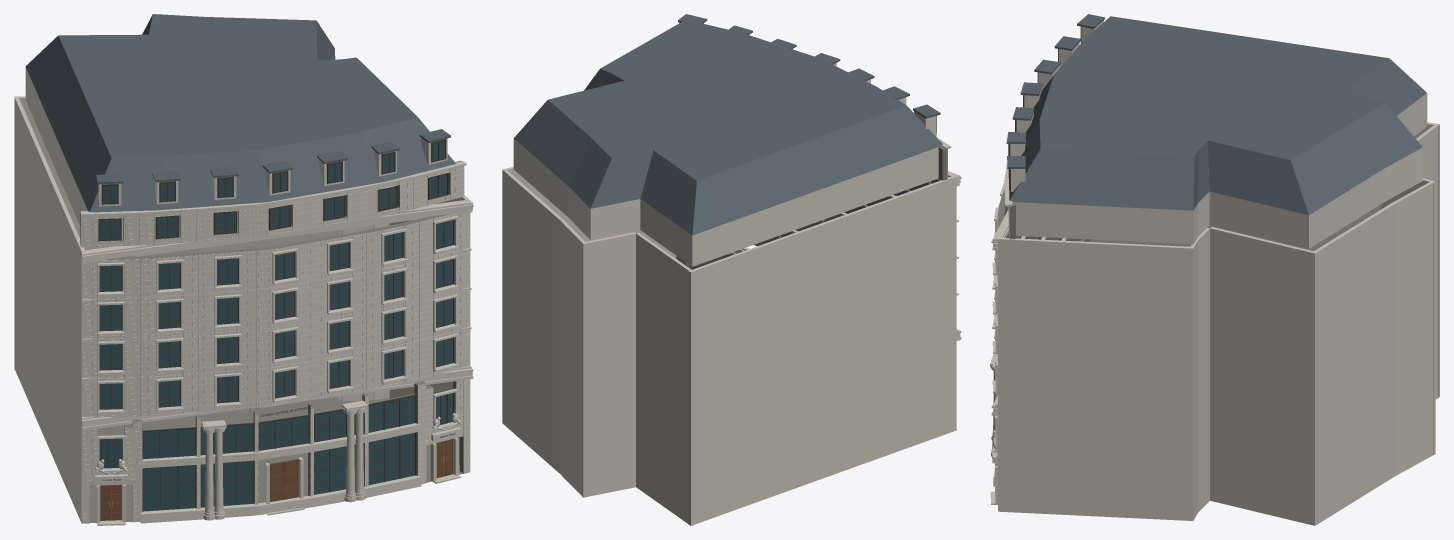
The model's file is clm-exterior-025af837b0e3.glb.
3 views of the same model, side by side, from view 1: azimuth 30°, elevation 25°; view 2: azimuth 150°, elevation 25°; view 3: azimuth 270°, elevation 25° (orthographic). The views are drawn at different scales.
Parts seen in each view (by area): view 1: CLM.001; view 2: CLM.001; view 3: CLM.001.
Part boxes in pixels (left/top/right/bottom): CLM.001: left=14, top=14, right=473, bottom=525; CLM.001: left=502, top=14, right=961, bottom=525; CLM.001: left=990, top=14, right=1439, bottom=525.
Bounding box in the file's own units: 33.04 × 29.19 × 34.19.
